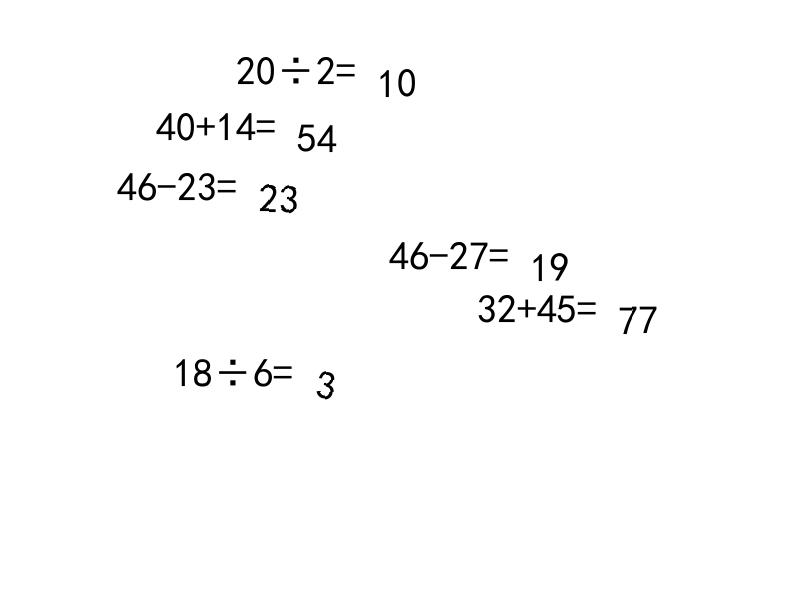+: (196, 106, 216, 135), (517, 288, 537, 317)
-: (157, 166, 177, 195), (429, 235, 449, 264)
0: (256, 50, 276, 80), (386, 50, 406, 80), (176, 106, 196, 135)
1: (366, 50, 386, 80), (216, 106, 236, 135), (519, 235, 539, 264), (173, 352, 193, 380)
2: (236, 50, 256, 80), (316, 50, 336, 80), (177, 166, 197, 195), (247, 166, 267, 195), (449, 235, 469, 264), (497, 288, 517, 317)
3: (197, 166, 217, 195), (267, 166, 287, 195), (477, 288, 497, 317), (303, 352, 323, 380)
4: (156, 106, 176, 135), (236, 106, 256, 135), (306, 106, 326, 135), (117, 166, 137, 195), (389, 235, 409, 264), (537, 288, 557, 317)
5: (286, 106, 306, 135), (557, 288, 577, 317)
6: (137, 166, 157, 195), (409, 235, 429, 264), (253, 352, 273, 380)
7: (469, 235, 489, 264), (607, 288, 627, 317), (627, 288, 647, 317)
8: (193, 352, 213, 380)
9: (539, 235, 559, 264)
=: (336, 50, 356, 80), (256, 106, 276, 135), (217, 166, 237, 195), (489, 235, 509, 264), (577, 288, 597, 317), (273, 352, 293, 380)
÷: (276, 50, 316, 80), (213, 352, 253, 380)
